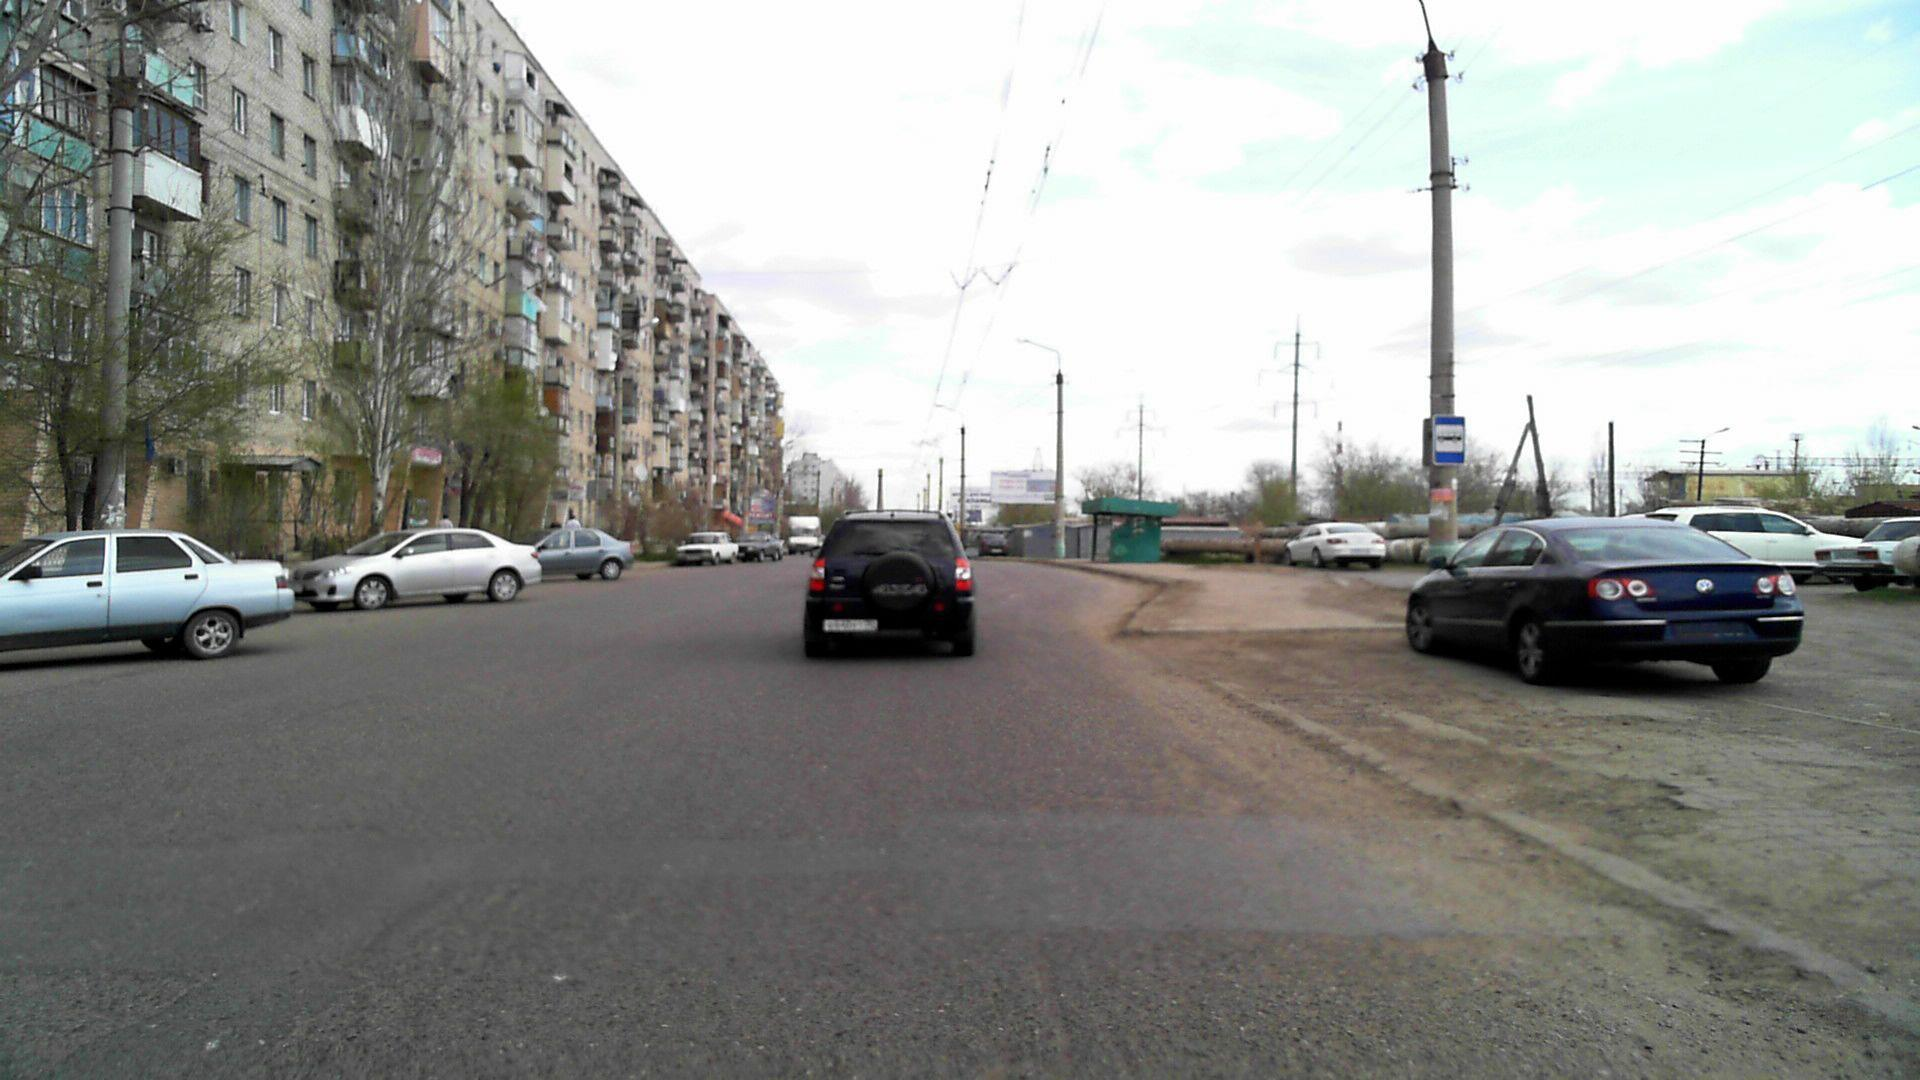5_16: (1429, 415, 1465, 465)
